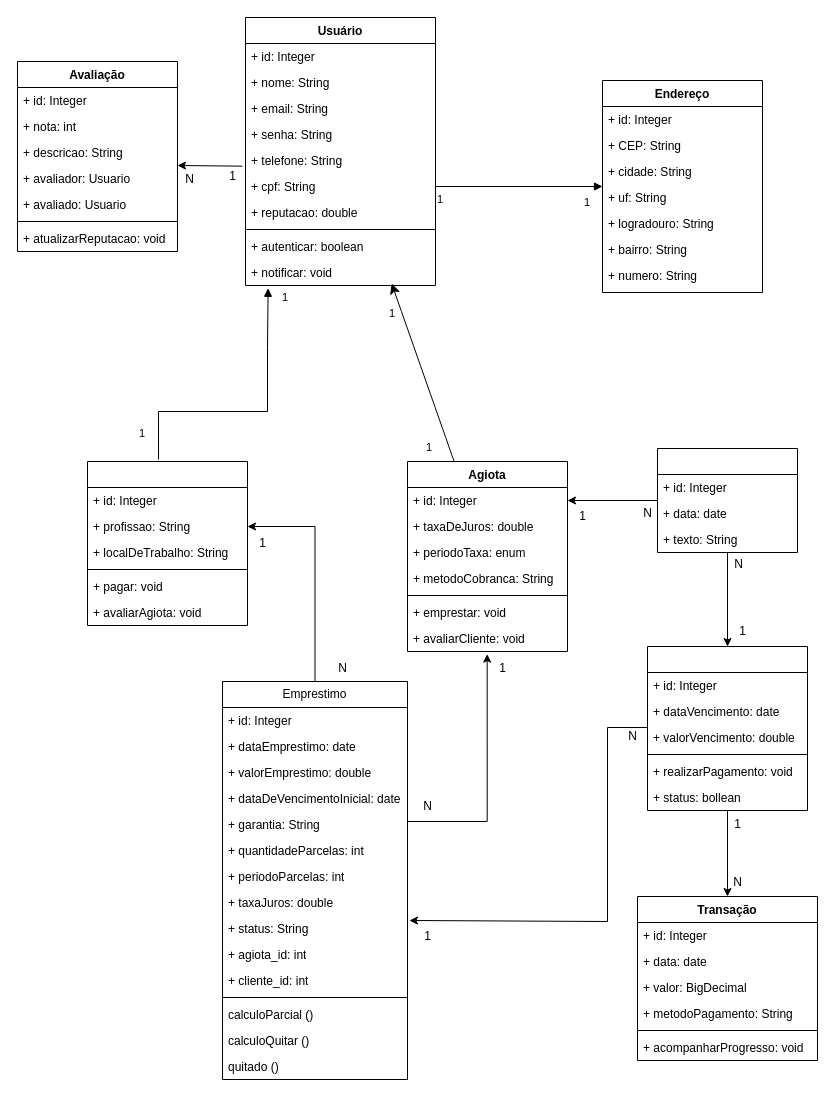
The diagram is 835 pixels wide and 1100 high, and some of its shapes have lost their labels. Each missing label, with the box of its shape:
Cliente: (86, 460, 248, 626)
Lembrete: (656, 448, 798, 552)
Parcela: (646, 646, 808, 810)
